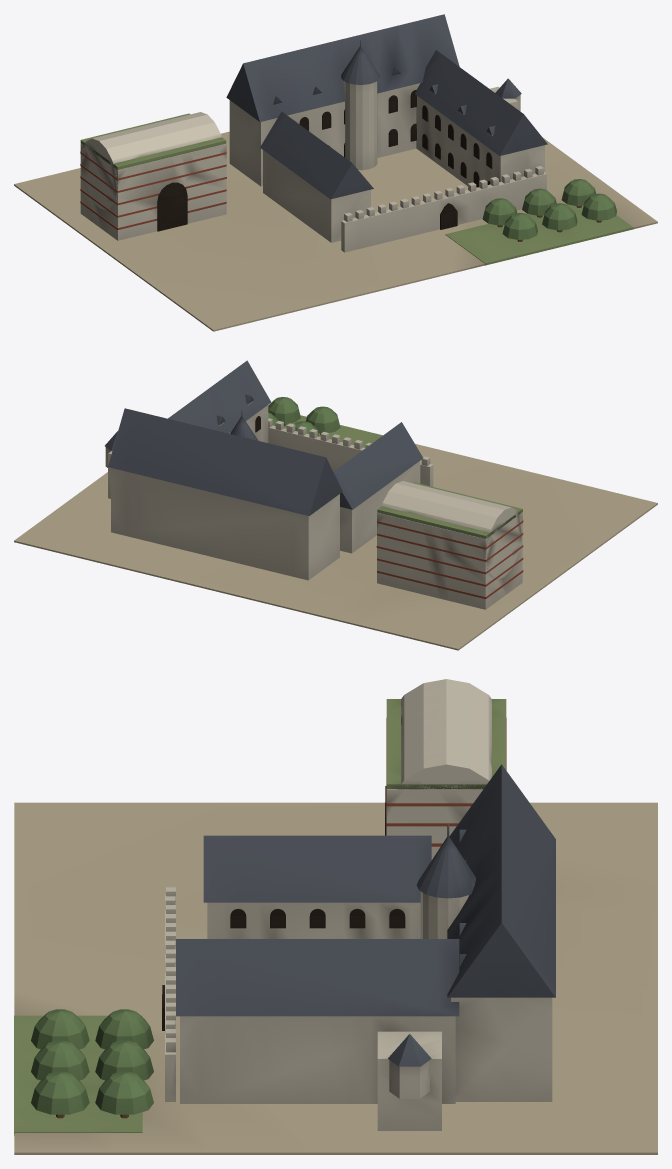
Rendered from hotel-de-cluny.glb.
The picture shows the model from 3 angles, top to bottom: view 1: azimuth 30°, elevation 25°; view 2: azimuth 150°, elevation 25°; view 3: azimuth 270°, elevation 25°; orthographic projection. The views are drawn at different scales.
Parts seen in each view (by area): view 1: p0_frigidarium, p1_hôtel, p2_garden; view 2: p0_frigidarium, p1_hôtel, p2_garden; view 3: p0_frigidarium, p1_hôtel, p2_garden.
Part boxes in pixels (box(x1,y1,x2,y2)): p0_frigidarium: box(14, 112, 657, 331); p1_hôtel: box(226, 14, 547, 252); p2_garden: box(445, 179, 633, 265); p0_frigidarium: box(14, 444, 657, 650); p1_hôtel: box(105, 360, 433, 580); p2_garden: box(268, 397, 382, 447); p0_frigidarium: box(14, 679, 657, 1154); p1_hôtel: box(162, 764, 555, 1130); p2_garden: box(14, 1009, 153, 1135).
Size of the model in its own units: 90 by 24.24 by 70.04.
